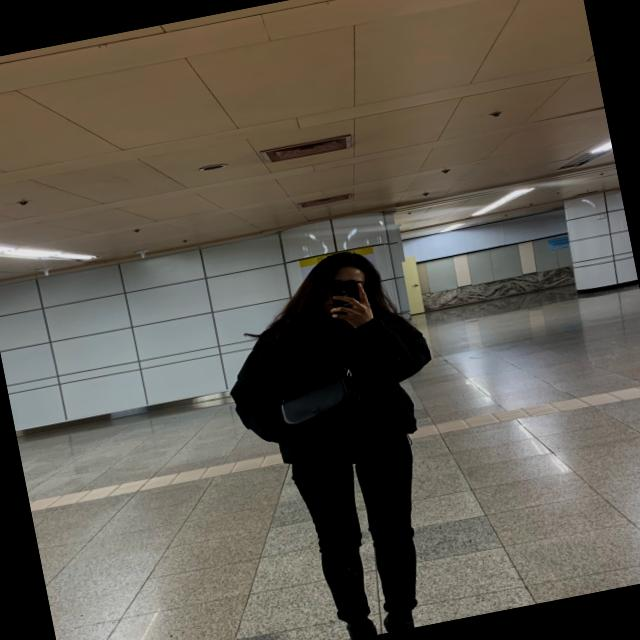denimpants: (290, 444, 432, 626)
padding: (223, 290, 444, 476)
